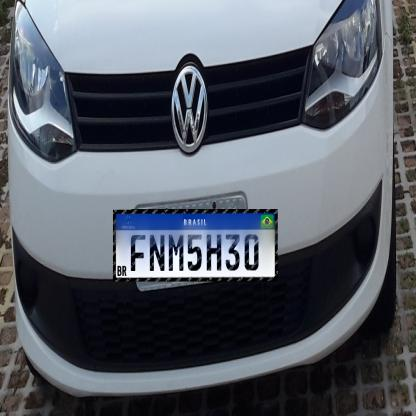PlacaM: (113, 209, 278, 282)
